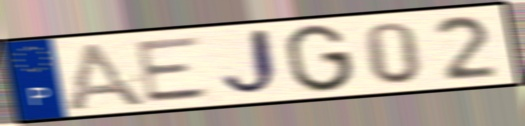0: (360, 20, 426, 86)
2: (432, 14, 502, 83)
A: (61, 39, 153, 110)
E: (132, 34, 215, 105)
G: (284, 22, 357, 95)
J: (217, 26, 283, 100)
